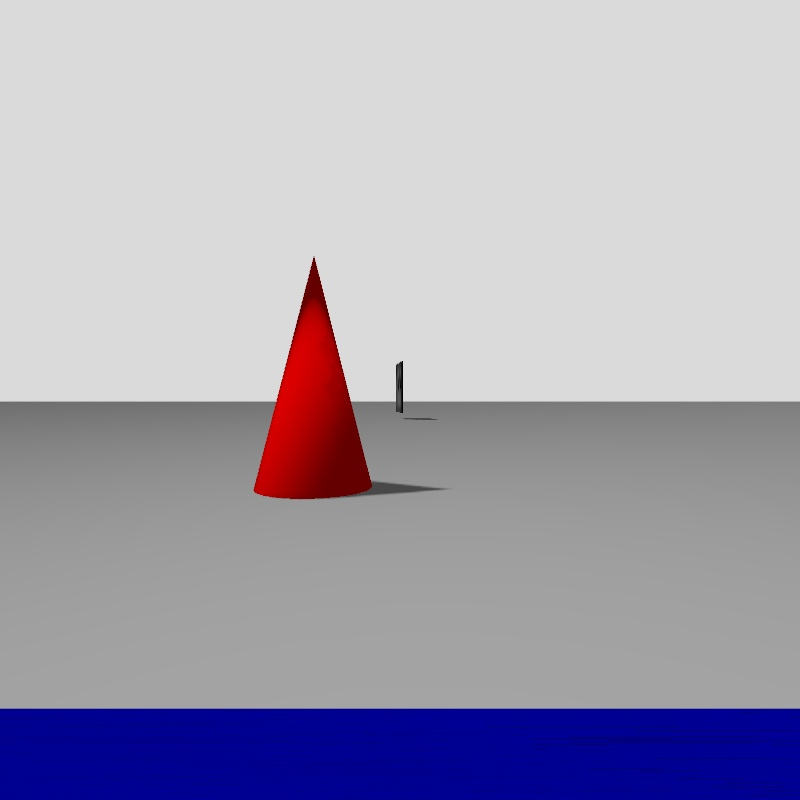Red_cone: (254, 260, 371, 497)
